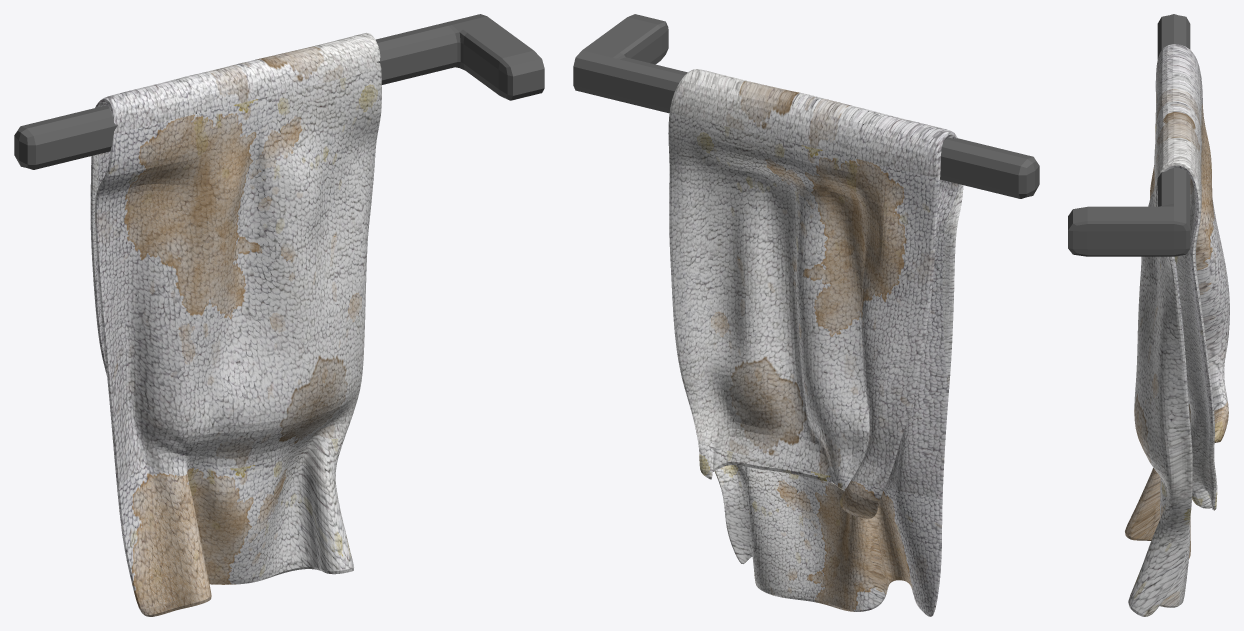
Rendered from Disgusting Towel + Holder.fbx.
3 views of the same model, side by side, from view 1: azimuth 30°, elevation 25°; view 2: azimuth 150°, elevation 25°; view 3: azimuth 270°, elevation 25° (orthographic). The views are drawn at different scales.
Visible parts, largest first — view 1: Towel, TowelHolder; view 2: Towel, TowelHolder; view 3: Towel, TowelHolder.
Part boxes in pixels (x1,y1,x2,y2): Towel: [90, 32, 381, 616]; TowelHolder: [14, 14, 544, 169]; Towel: [668, 69, 963, 616]; TowelHolder: [573, 14, 1039, 198]; Towel: [1125, 44, 1229, 616]; TowelHolder: [1068, 14, 1190, 256].
Bounding box in the file's own units: 67.09 × 71.1 × 21.75.
